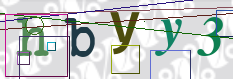3: (196, 16, 223, 56)
b: (64, 17, 95, 58)
h: (16, 17, 49, 57)
y: (109, 11, 139, 54), (154, 18, 182, 57)
